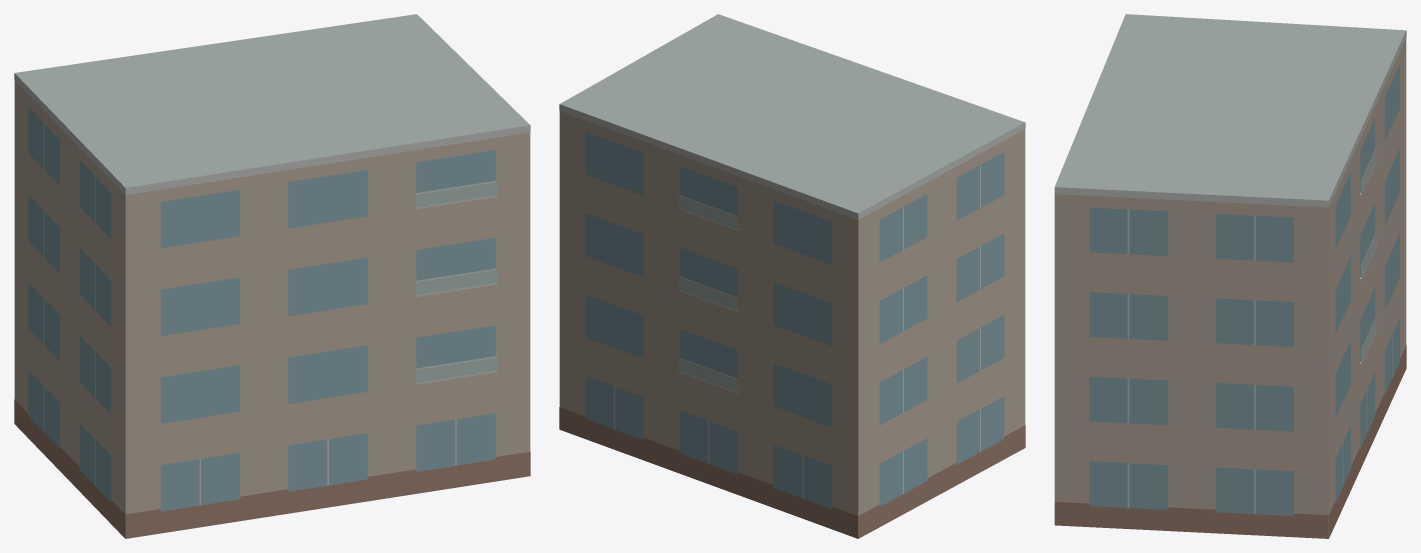
The model's file is survey-upis-32742678.glb.
3 views of the same model, side by side, from view 1: azimuth 30°, elevation 25°; view 2: azimuth 150°, elevation 25°; view 3: azimuth 270°, elevation 25° (orthographic). The views are drawn at different scales.
Parts seen in each view (by area): view 1: survey-upis-32742678.tmp; view 2: survey-upis-32742678.tmp; view 3: survey-upis-32742678.tmp.
Boxes of the visible parts, bbox=[...] form: survey-upis-32742678.tmp: bbox=[14, 14, 530, 538]; survey-upis-32742678.tmp: bbox=[559, 14, 1025, 538]; survey-upis-32742678.tmp: bbox=[1054, 14, 1406, 538].
Size of the model in its own units: 14.1 by 11.9 by 11.23.
